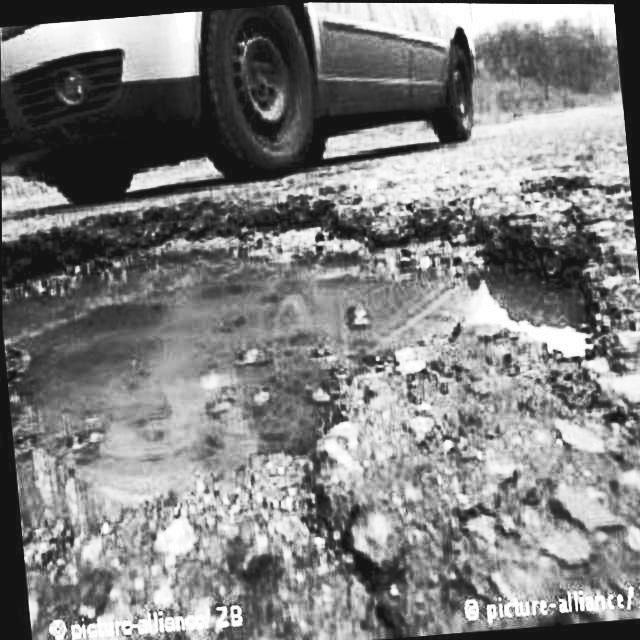Pothole: (9, 202, 624, 554)
